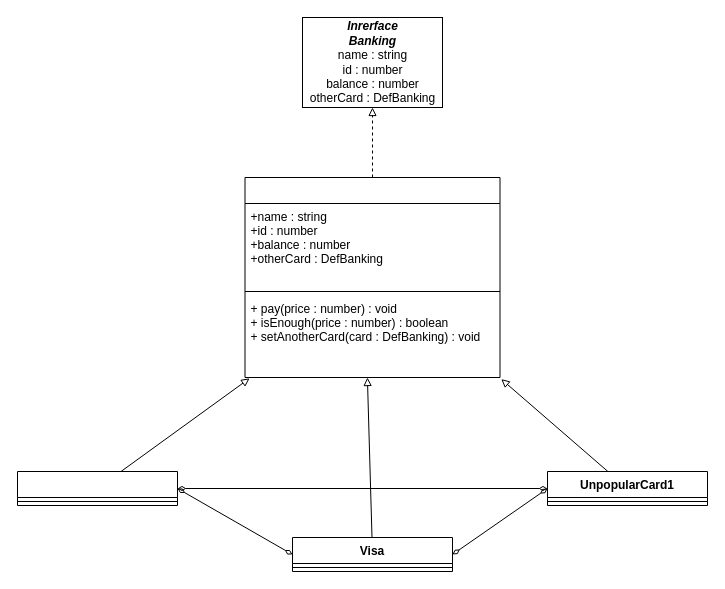
The diagram is 725 pixels wide and 589 high, and some of its shapes have lost their labels. The box of each missing label's shape, as (x1, y1, x2, y2) in pixels:
abstract DefBanking: (244, 176, 500, 378)
Master: (16, 470, 178, 506)
